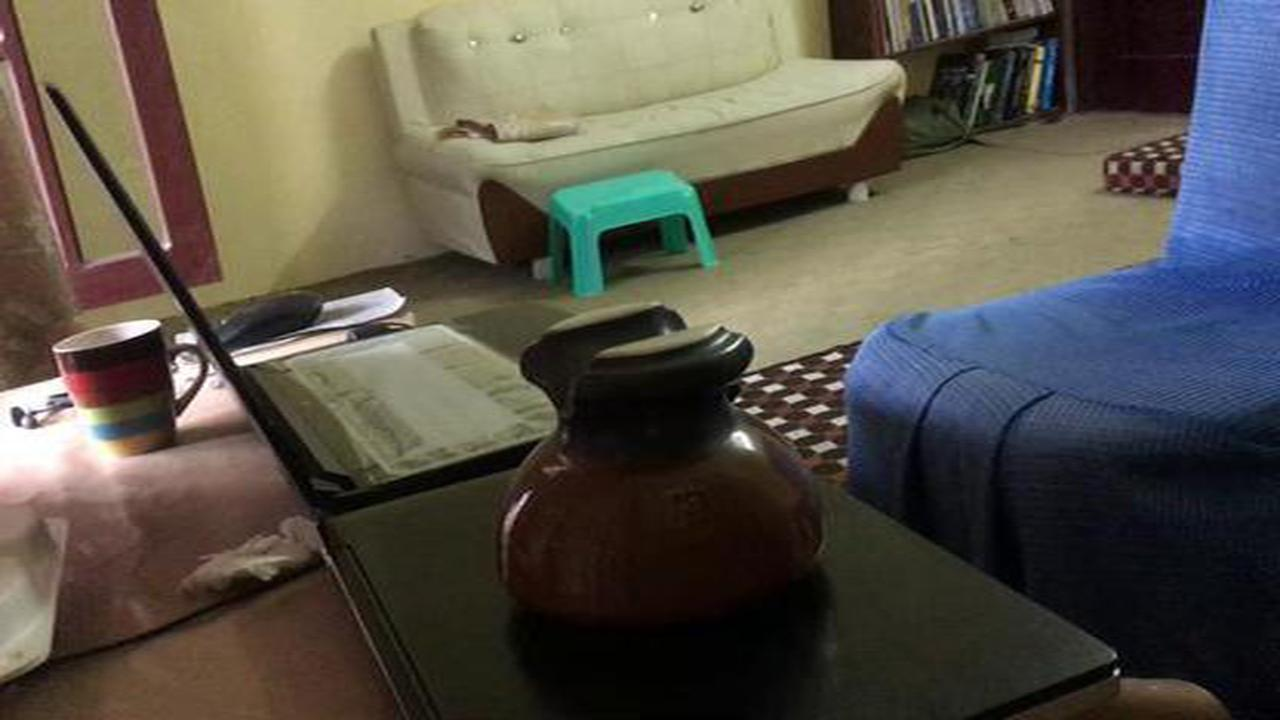insulator_pin: (484, 291, 841, 655)
